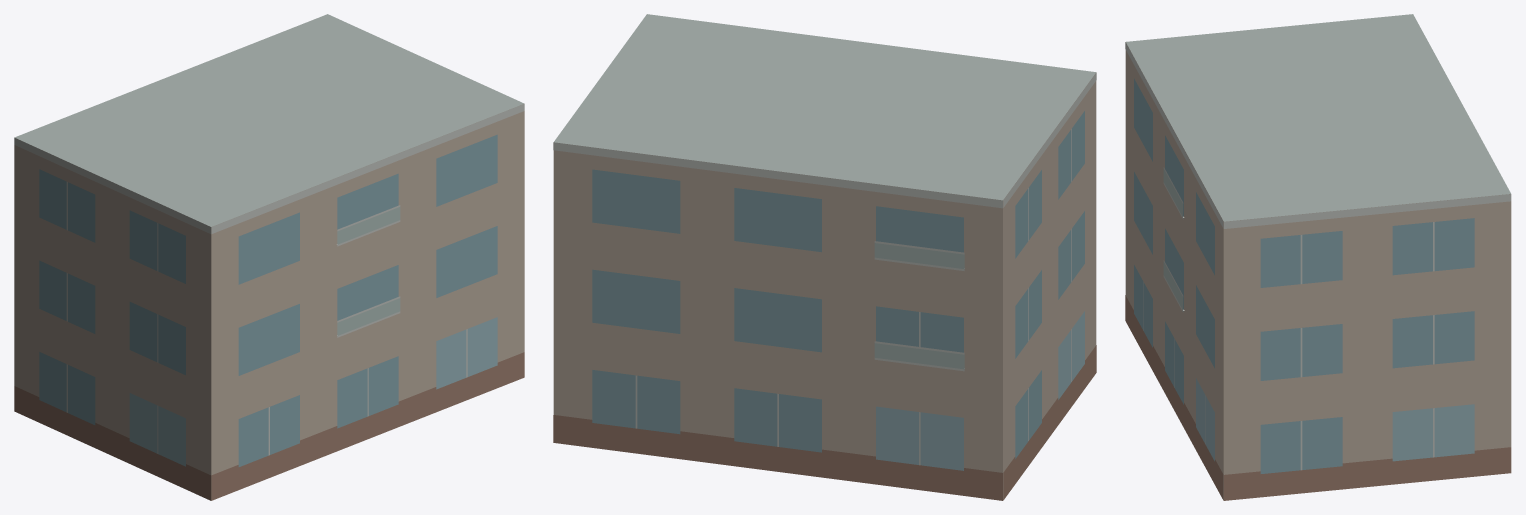
File: survey-upis-32646196.glb
The picture shows the model from 3 angles, left to right: view 1: azimuth 30°, elevation 25°; view 2: azimuth 150°, elevation 25°; view 3: azimuth 270°, elevation 25°; orthographic projection. The views are drawn at different scales.
Parts seen in each view (by area): view 1: survey-upis-32646196.tmp; view 2: survey-upis-32646196.tmp; view 3: survey-upis-32646196.tmp.
Boxes of the visible parts, x1,y1,x2,y2 form: survey-upis-32646196.tmp: (14,14,524,500); survey-upis-32646196.tmp: (553,14,1096,500); survey-upis-32646196.tmp: (1125,14,1511,500).
Bounding box in the file's own units: 14.61 × 9.15 × 11.47.
